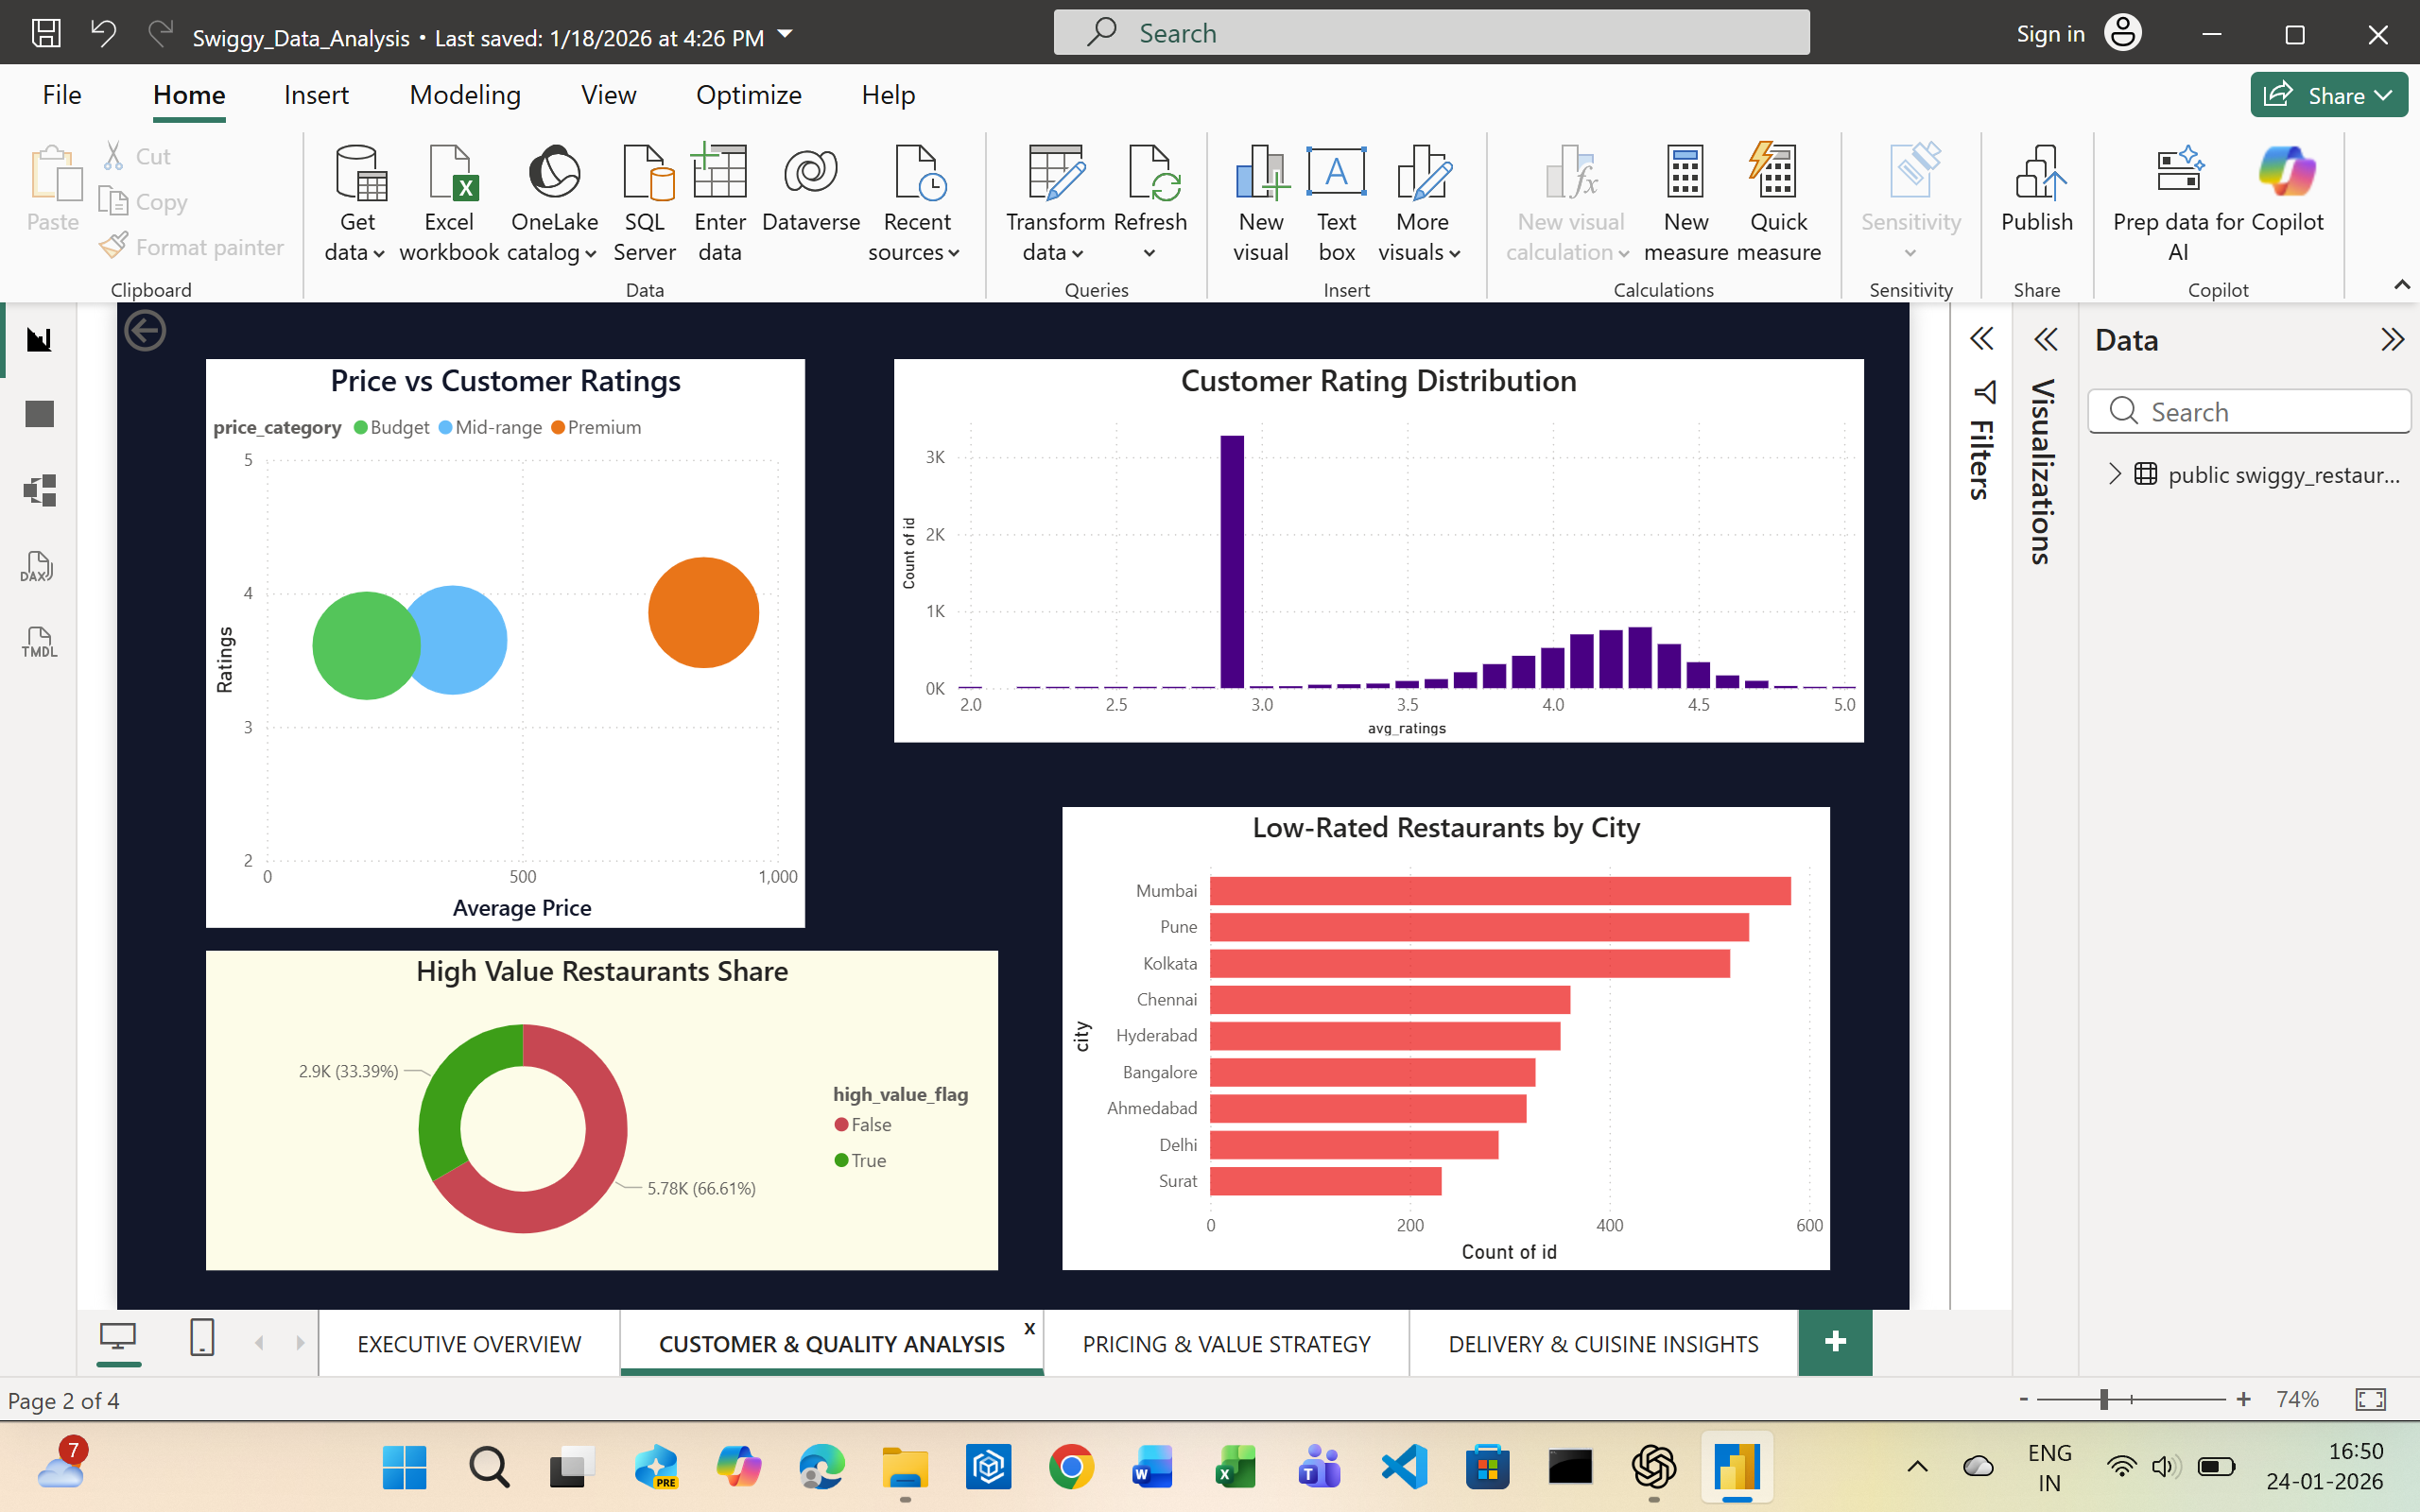

The dashboard page shown, as its layout file describes it:
{"tool":"powerbi","page":{"name":"CUSTOMER & QUALITY ANALYSIS ","canvas":[1280,720],"ordinal":1},"visuals":[{"type":"scatterChart","title":"Price vs Customer Ratings","fields":{"X":["Avg(public swiggy_restaurants.price)"],"Y":["Avg(public swiggy_restaurants.avg_ratings)"],"Series":["public swiggy_restaurants.price_category"],"Size":["Avg(public swiggy_restaurants.delivery_time)"]},"box":[63.5,40.5,428.2,406.6],"z":0},{"type":"actionButton","box":[0,0,100,40],"z":1000},{"type":"donutChart","title":"High Value Restaurants Share","fields":{"Category":["public swiggy_restaurants.high_value_flag"],"Y":["CountNonNull(public swiggy_restaurants.id)"]},"box":[63.5,463.3,566,228.3],"z":2000},{"type":"clusteredBarChart","title":"Low-Rated Restaurants by City","fields":{"Category":["public swiggy_restaurants.city"],"Y":["CountNonNull(public swiggy_restaurants.id)"]},"box":[675.4,360.7,548.4,331],"z":3000},{"type":"columnChart","title":"Customer Rating Distribution","fields":{"Category":["public swiggy_restaurants.avg_ratings"],"Y":["CountNonNull(public swiggy_restaurants.id)"]},"box":[555.2,40.5,693,274.2],"z":4000}]}

Visuals, with their boxes on the page's 1280x720 design canvas (x1, y1, x2, y2). These are canvas units, not pixel positions in the 2420x1512 screenshot, which may show the page scaled, cropped or inside an application window:
"Price vs Customer Ratings" scatterChart: bbox(64, 40, 492, 447)
actionButton: bbox(0, 0, 100, 40)
"High Value Restaurants Share" donutChart: bbox(64, 463, 630, 692)
"Low-Rated Restaurants by City" clusteredBarChart: bbox(675, 361, 1224, 692)
"Customer Rating Distribution" columnChart: bbox(555, 40, 1248, 315)
